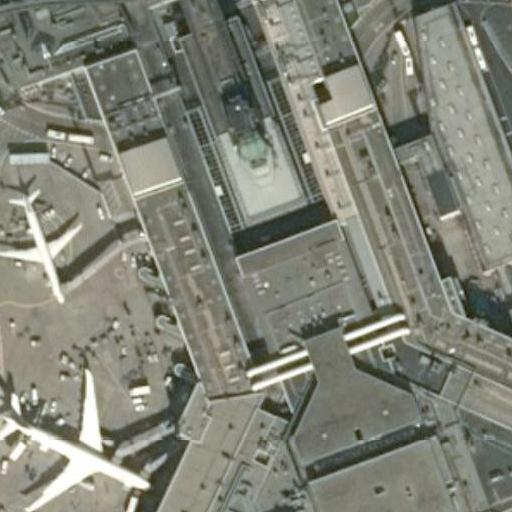Aircraft: (0, 352, 151, 512), (0, 369, 153, 512), (0, 181, 82, 303), (0, 183, 83, 302)
